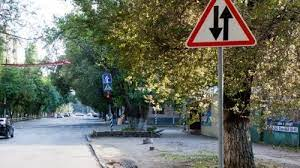1.19.1: (180, 1, 258, 44)
